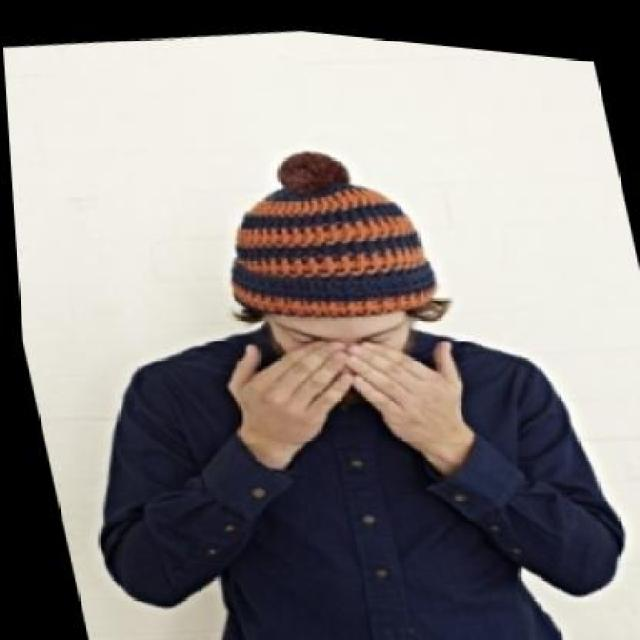hat: (186, 106, 448, 339)
